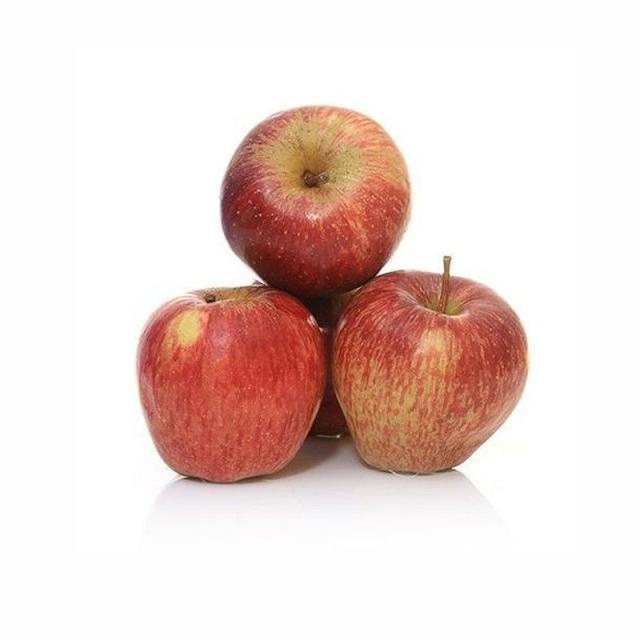Fresh Apple: (322, 275, 533, 477), (208, 105, 420, 300), (145, 285, 315, 478)
